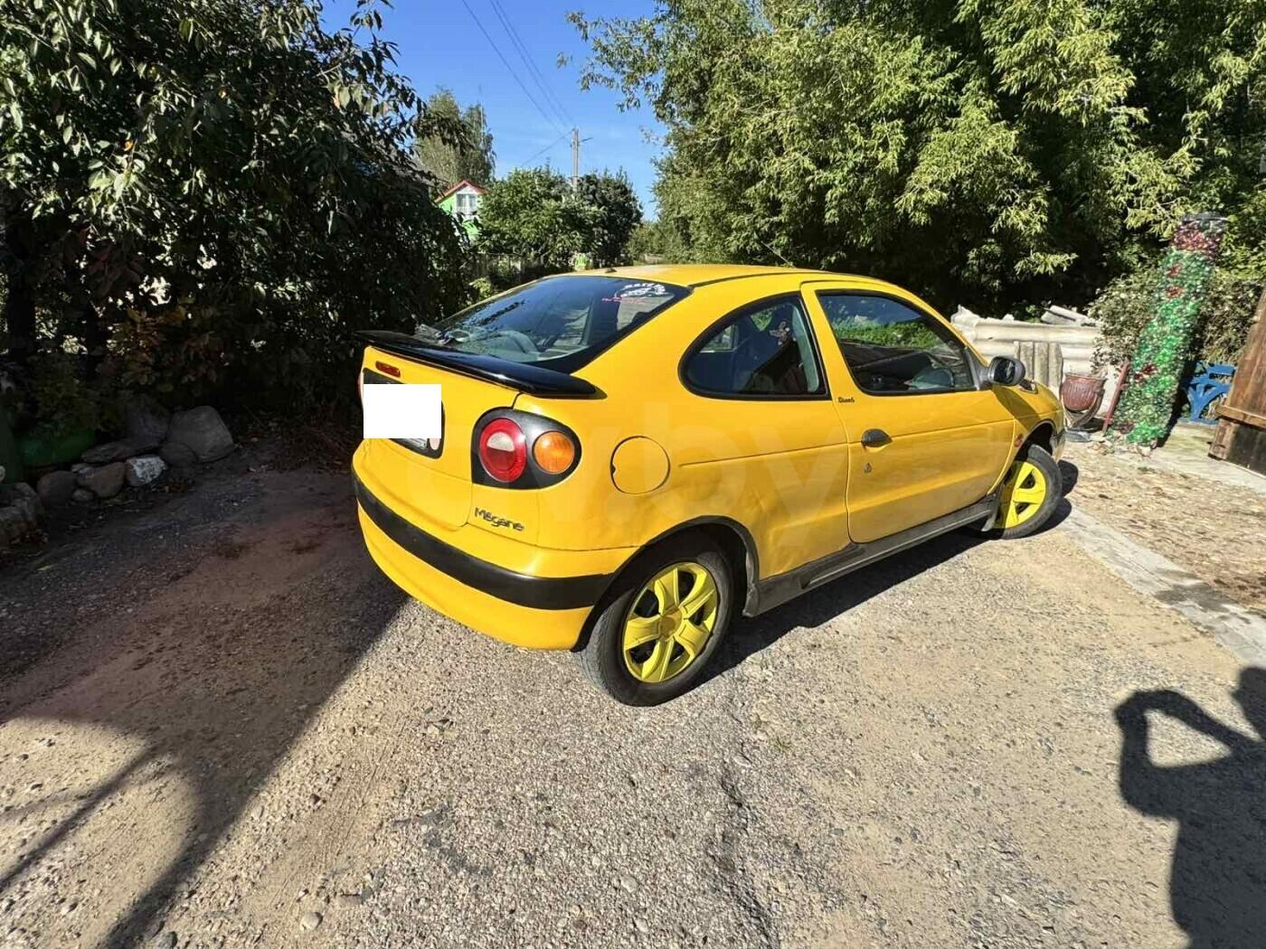Megane_1995-1999: (336, 278, 1086, 723)
